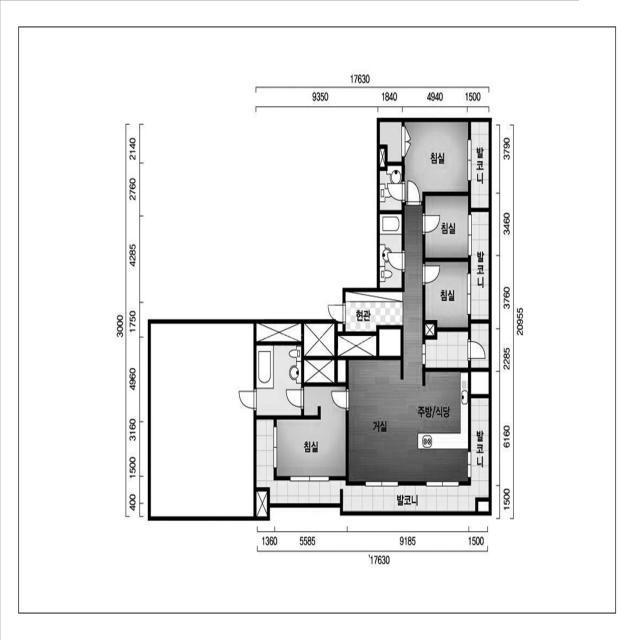background: (0, 0, 640, 638)
space_balconi: (256, 398, 489, 512), (425, 324, 489, 368), (471, 212, 489, 320), (471, 122, 489, 208)
space_bedroom: (380, 122, 468, 202), (277, 386, 346, 476), (425, 262, 468, 328), (425, 196, 468, 258)
space_front: (345, 292, 403, 332)
space_kitchen: (418, 372, 468, 449)
space_living_room: (349, 205, 468, 482)
space_other: (151, 324, 254, 516), (304, 324, 335, 356), (256, 323, 301, 342), (338, 336, 377, 356), (304, 360, 335, 383), (256, 491, 267, 517), (425, 324, 434, 336), (380, 149, 385, 167)
space_toilet: (256, 345, 301, 416), (380, 214, 402, 288), (380, 166, 402, 210)
